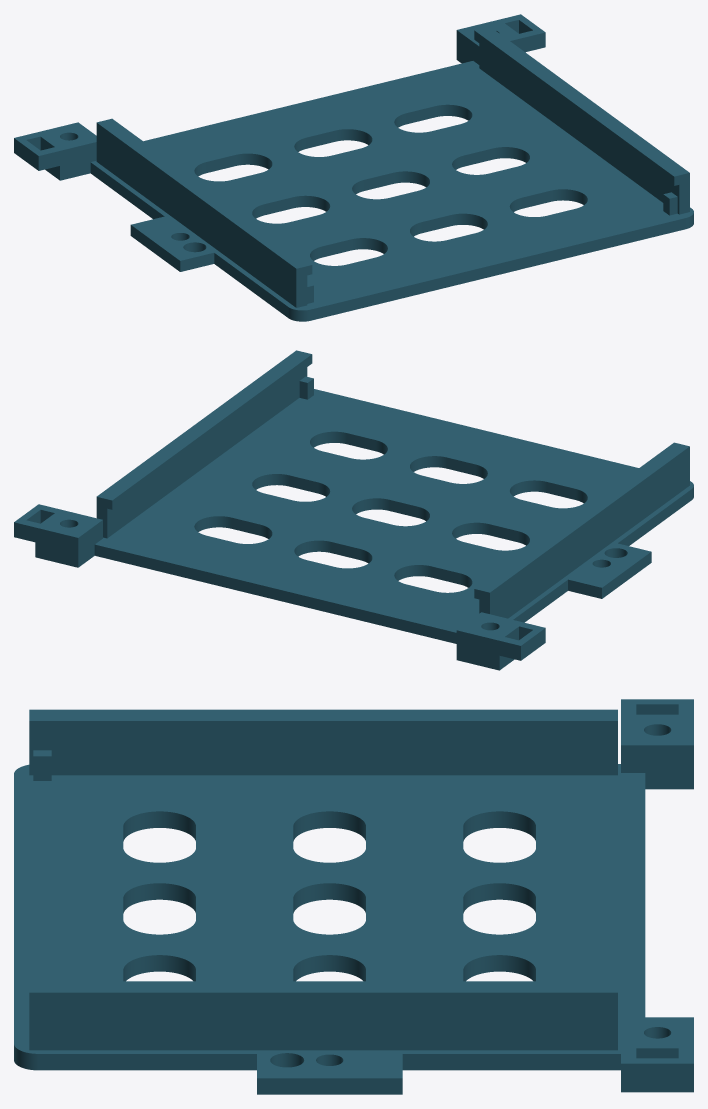
The model's file is jetson_tray.glb.
The picture shows the model from 3 angles, top to bottom: view 1: azimuth 30°, elevation 25°; view 2: azimuth 150°, elevation 25°; view 3: azimuth 270°, elevation 25°; orthographic projection. The views are drawn at different scales.
Parts seen in each view (by area): view 1: jetson_tray; view 2: jetson_tray; view 3: jetson_tray.
Part boxes in pixels (x1,y1,x2,y2): jetson_tray: (14,14,693,321); jetson_tray: (14,350,693,670); jetson_tray: (14,699,693,1094).
Bounding box in the file's own units: 0.142 × 0.0135 × 0.112.
